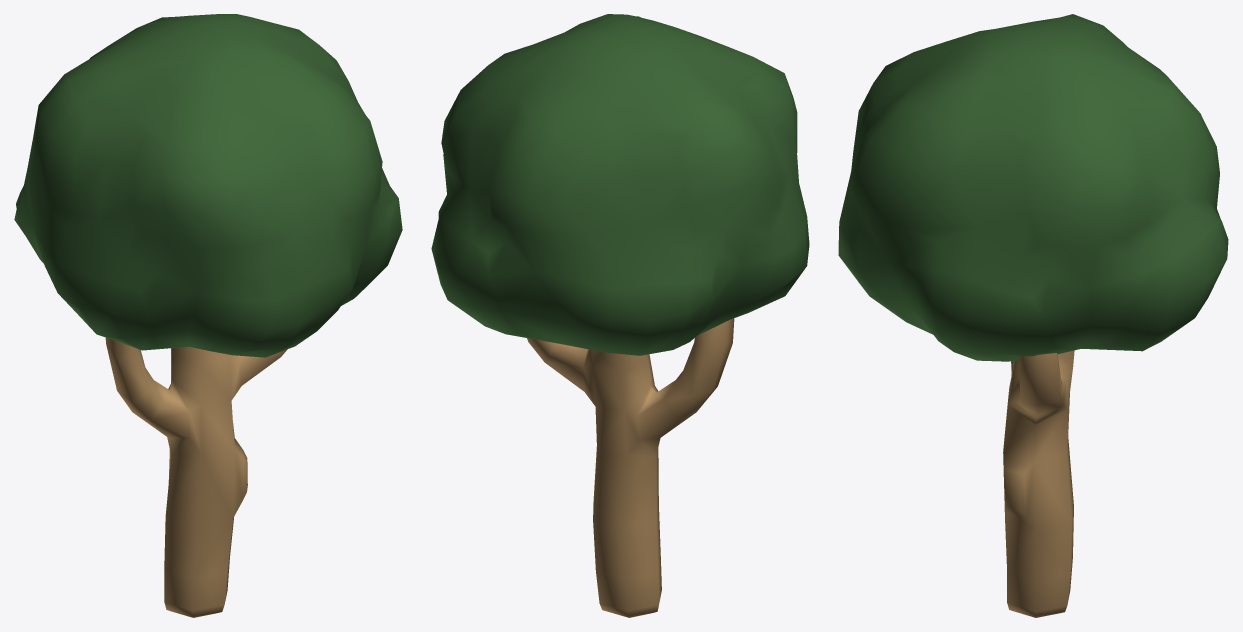
The model's file is tree03.fbx.
3 views of the same model, side by side, from view 1: azimuth 30°, elevation 25°; view 2: azimuth 150°, elevation 25°; view 3: azimuth 270°, elevation 25° (orthographic).
Visible parts, largest first — view 1: Tree_D_Top_01_LOD1_Mat_Nature_0, Tree_Btm_D_01_LOD1_Mat_Nature_0; view 2: Tree_D_Top_01_LOD1_Mat_Nature_0, Tree_Btm_D_01_LOD1_Mat_Nature_0; view 3: Tree_D_Top_01_LOD1_Mat_Nature_0, Tree_Btm_D_01_LOD1_Mat_Nature_0.
Boxes of the visible parts, <box> form: Tree_D_Top_01_LOD1_Mat_Nature_0: <box>14,14,402,357</box>; Tree_Btm_D_01_LOD1_Mat_Nature_0: <box>105,337,287,617</box>; Tree_D_Top_01_LOD1_Mat_Nature_0: <box>431,14,809,355</box>; Tree_Btm_D_01_LOD1_Mat_Nature_0: <box>527,318,734,617</box>; Tree_D_Top_01_LOD1_Mat_Nature_0: <box>838,14,1228,361</box>; Tree_Btm_D_01_LOD1_Mat_Nature_0: <box>1003,350,1074,617</box>.
Size of the model in its own units: 1.26 by 2.14 by 1.32.
